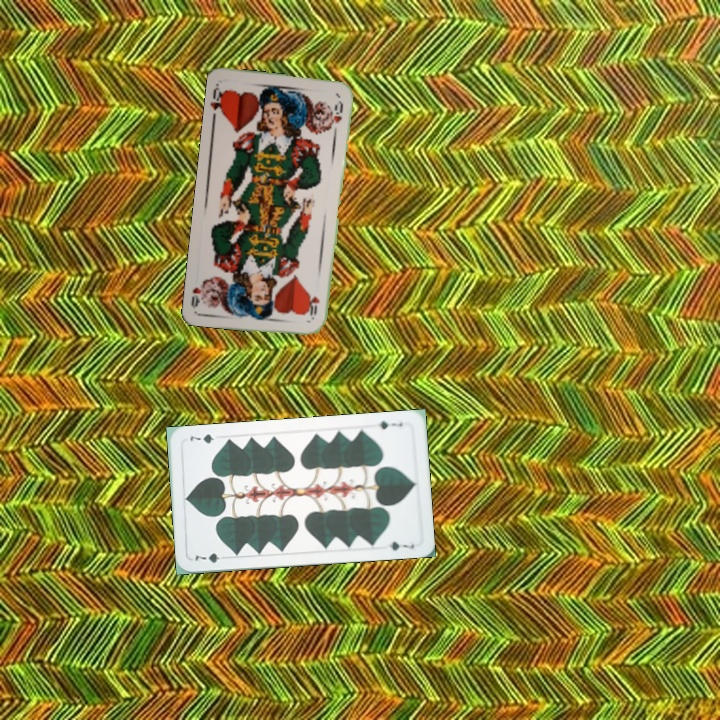G7: (191, 549, 230, 566), (375, 417, 405, 432)
HO: (207, 81, 228, 117), (306, 293, 322, 322)
